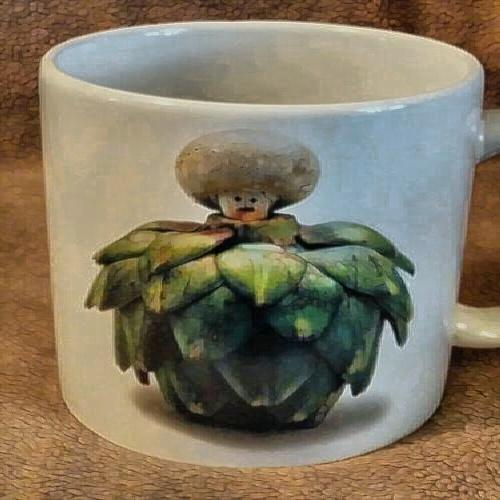mug: (38, 31, 472, 453)
